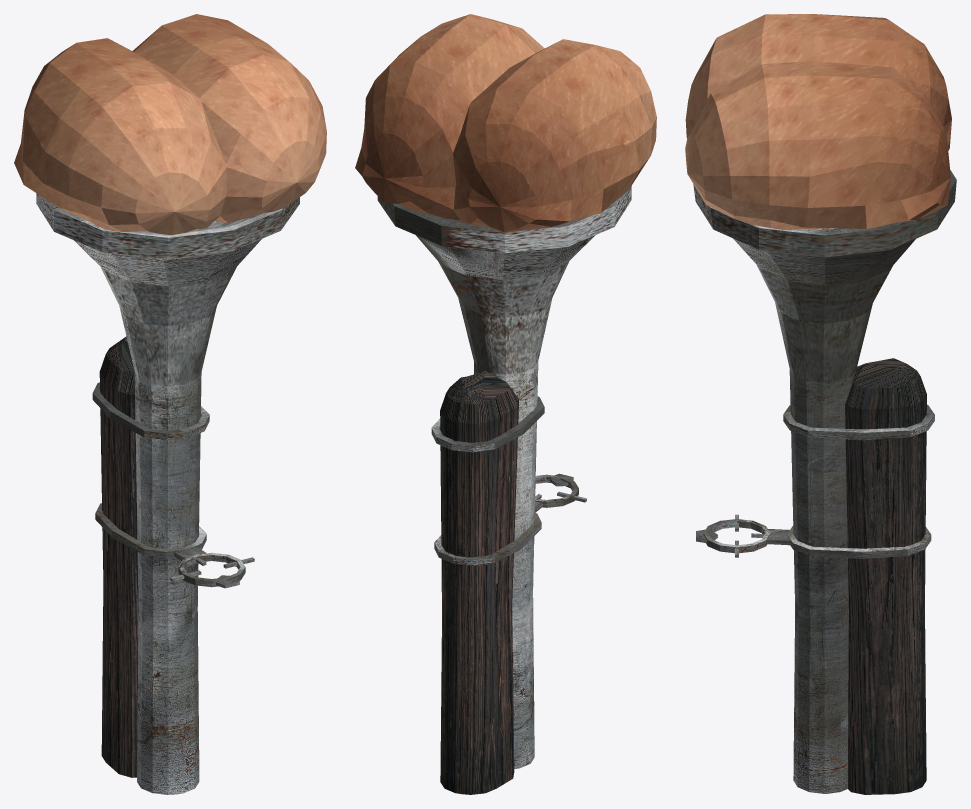
File: gun.glb
3 renders of one model, left to right at view 1: azimuth 30°, elevation 25°; view 2: azimuth 150°, elevation 25°; view 3: azimuth 270°, elevation 25°, orthographic. The views are drawn at different scales.
Visible parts, largest first — view 1: Sphere; view 2: Sphere; view 3: Sphere.
Boxes of the visible parts, box(x1,y1,x2,y2) form: Sphere: box(14, 14, 326, 794); Sphere: box(355, 14, 656, 794); Sphere: box(685, 14, 956, 794).
Size of the model in its own units: 1.33 by 3.54 by 1.18.
3 materials, 3 textured.
